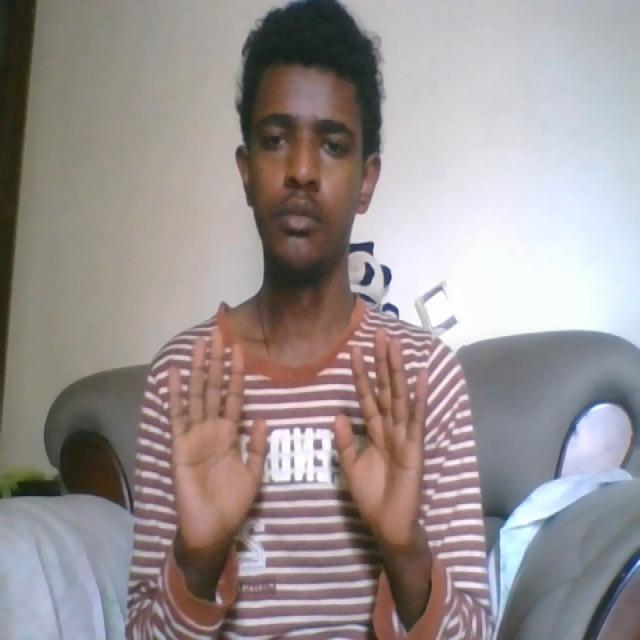megerem: (163, 332, 436, 552)
